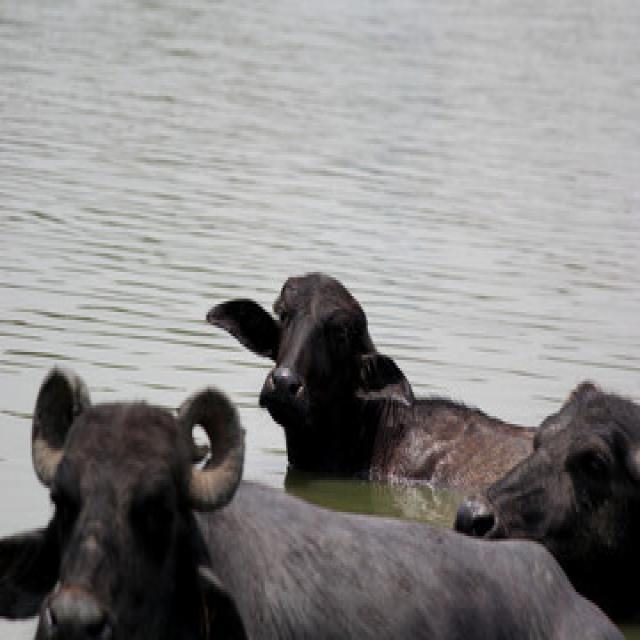Buffalo: (0, 367, 546, 640)
